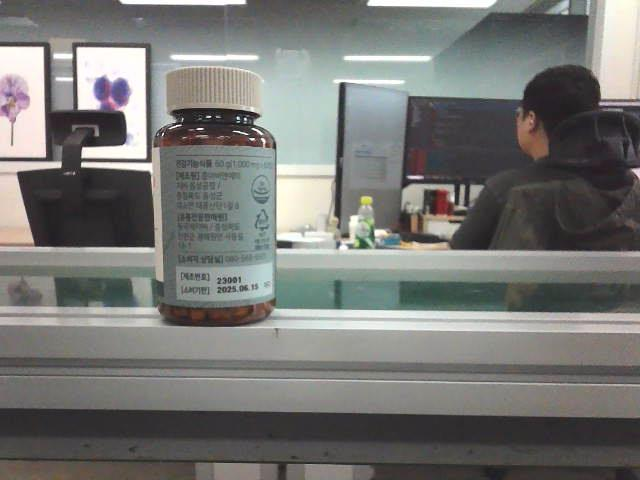labeled: (149, 64, 281, 330)
